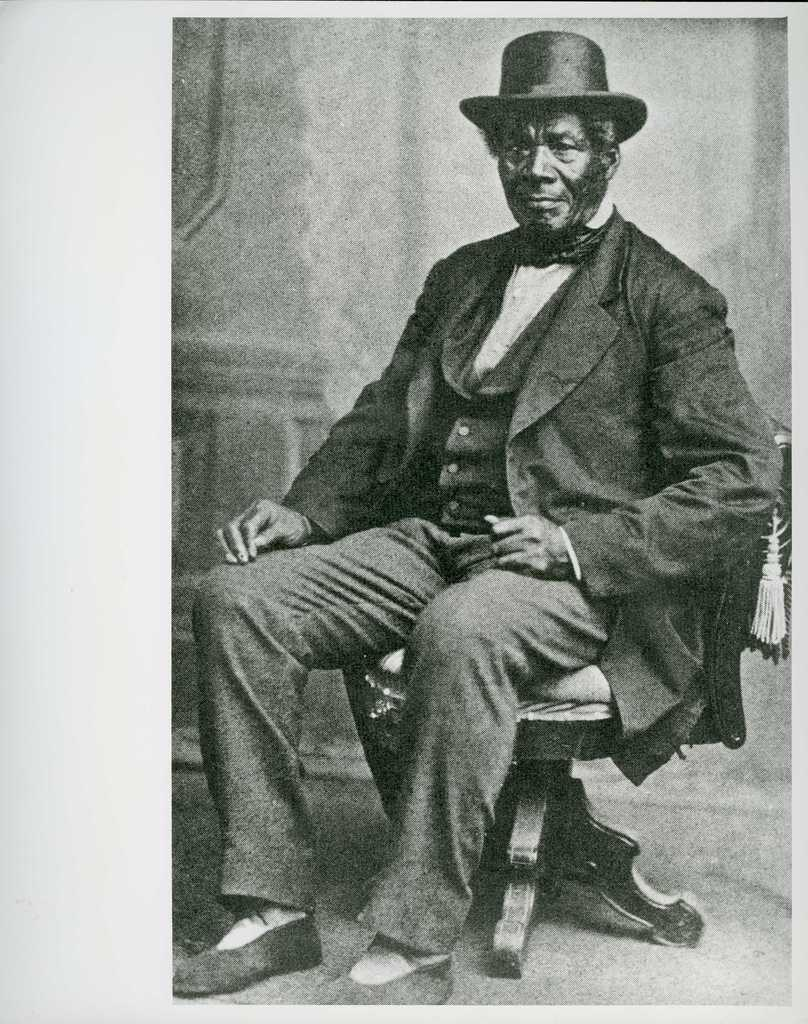Hat: (449, 30, 642, 143)
